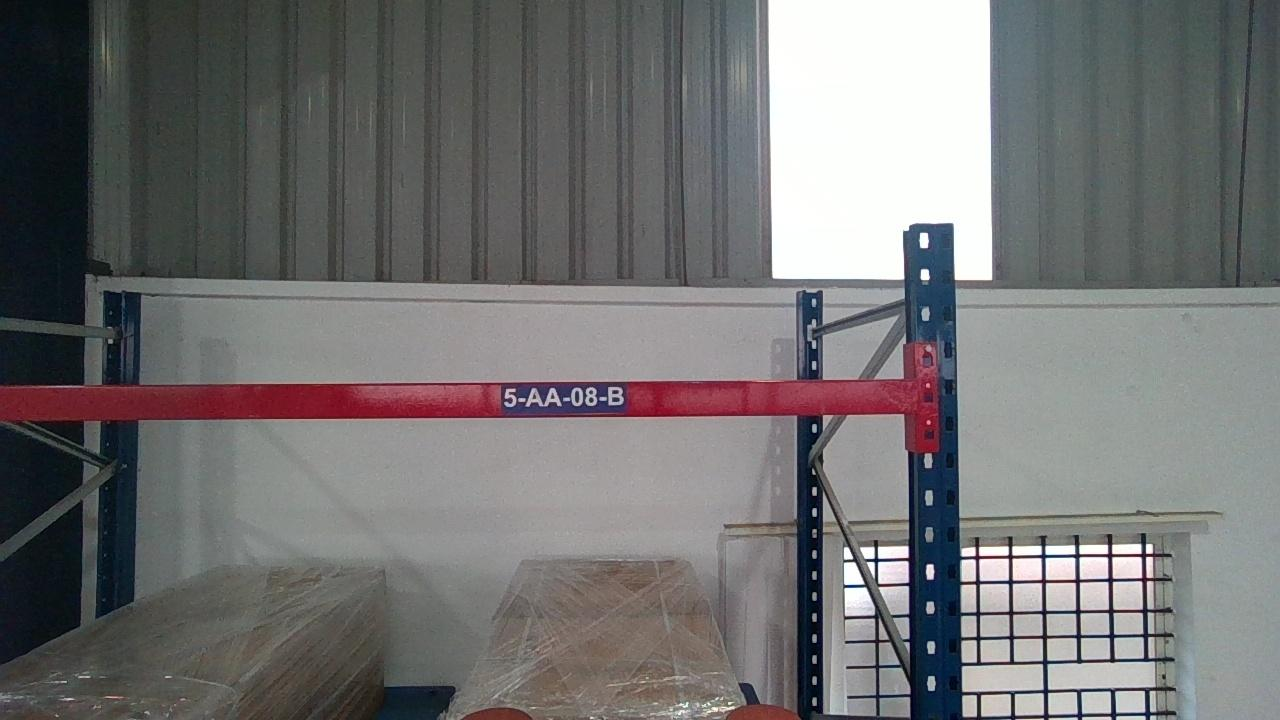h_rack: (0, 380, 917, 420)
